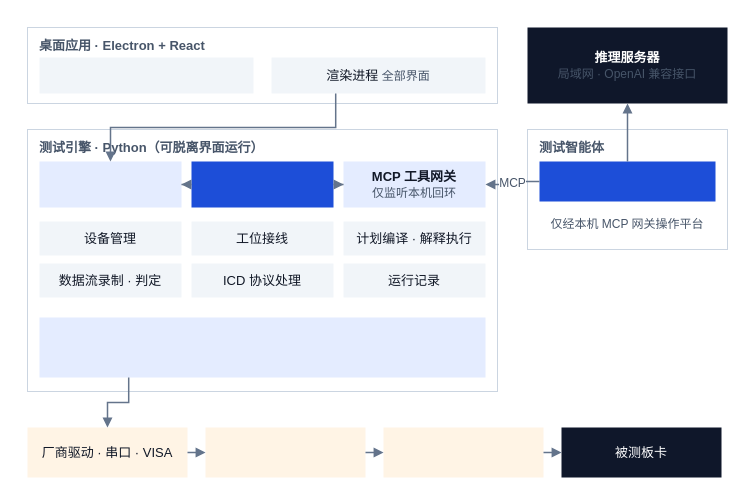
The diagram is 754 pixels wide and 504 high, and some of its shapes have lost their labels. The shapes that lost their labels are listed below. From the top down, each one's centre as x and y in pixels, then its label:
(x=146, y=75): 主进程 窗口 · 对话框 · 引擎启停
(x=110, y=184): 业务操作接口 HTTP + 事件推送
(x=262, y=184): 统一操作注册表 生成两侧接口
(x=627, y=181): OpenCode Agent 外壳
(x=262, y=347): 设备宿主 进程内加载 · 隔离子进程 · 厂商桥接程序（对上层一致）
(x=285, y=452): 资源板卡 · 仪器
(x=463, y=452): 工位接线 · 工装
